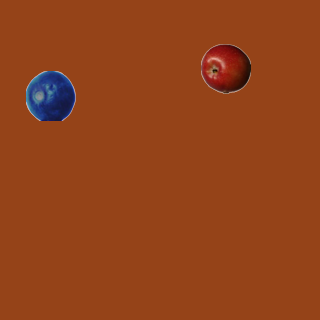Apple Braeburn: (200, 43, 250, 93)
Huckleberry: (25, 70, 75, 120)
